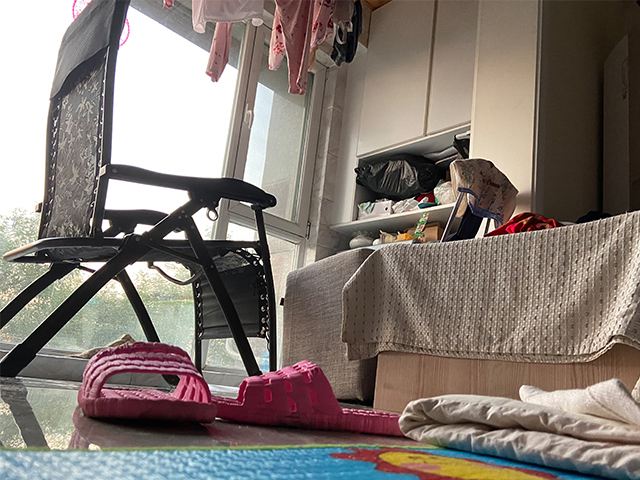slippers: (211, 361, 402, 436), (76, 334, 218, 423)
sofa: (340, 211, 640, 414)
stool: (1, 1, 278, 388)
